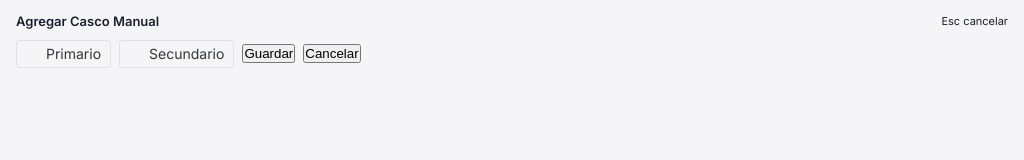
Test: AddColorForm › shows error when primary is missing on submit
Click the button "Guardar" at (269, 54), box x1=242 y1=44 x2=295 y2=63
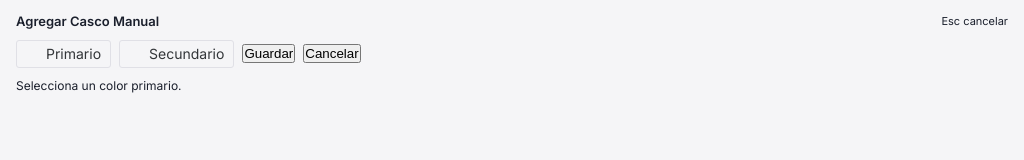
Expected: the text "color primario" is shown, x1=16 y1=78 x2=182 y2=93
